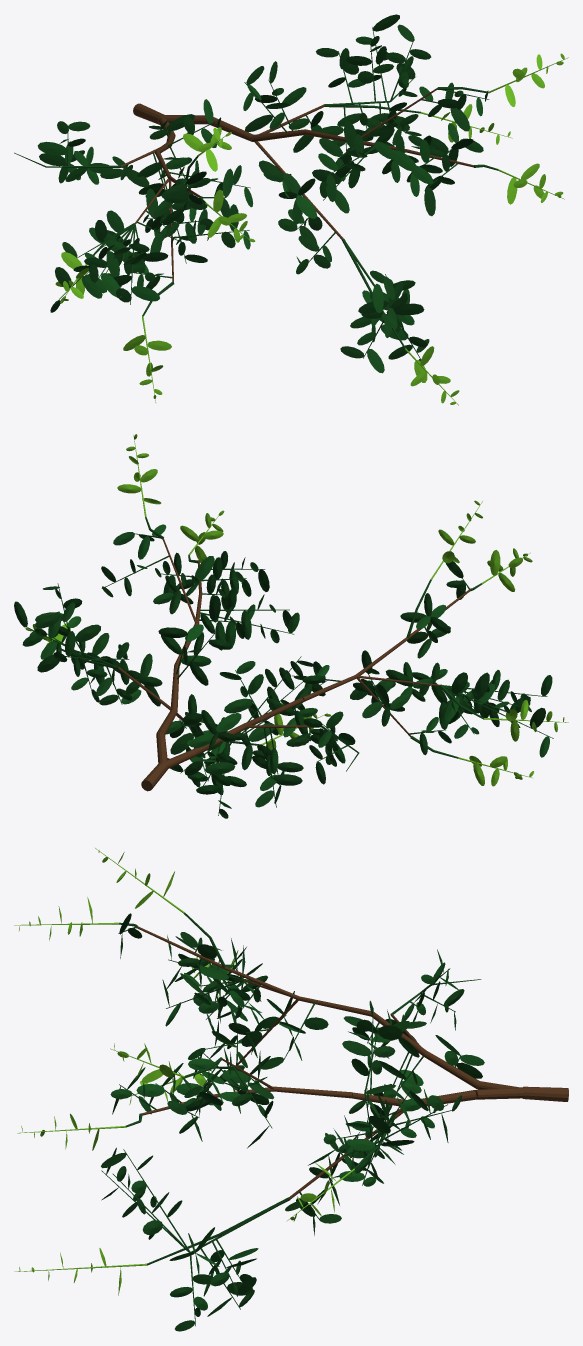
File: tree_visual.obj
The picture shows the model from 3 angles, top to bottom: view 1: azimuth 30°, elevation 25°; view 2: azimuth 150°, elevation 25°; view 3: azimuth 270°, elevation 25°; orthographic projection. The views are drawn at different scales.
Bounding box in the file's own units: 2.06 × 1.28 × 1.79.
